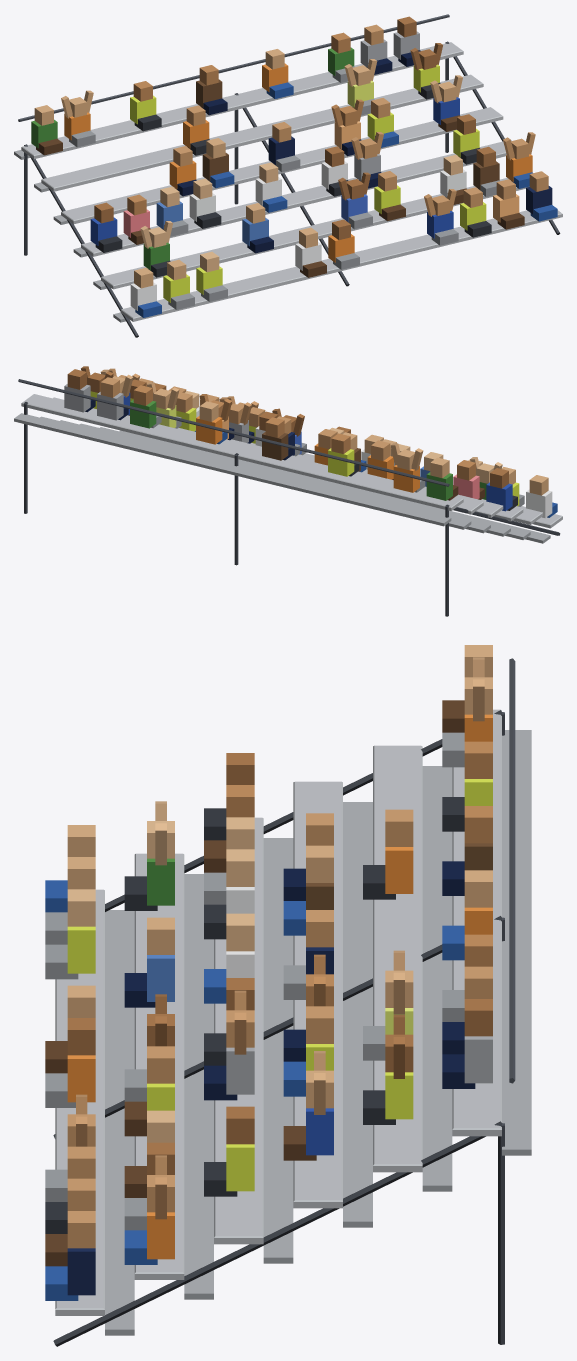
Rendered from Bleacher_1.glb.
3 renders of one model, top to bottom at view 1: azimuth 30°, elevation 25°; view 2: azimuth 150°, elevation 25°; view 3: azimuth 270°, elevation 25°, orthographic. The views are drawn at different scales.
Parts seen in each view (by area): view 1: Bleacher_1; view 2: Bleacher_1; view 3: Bleacher_1.
Part boxes in pixels (bbox=[...]): Bleacher_1: bbox=[14, 14, 562, 337]; Bleacher_1: bbox=[14, 366, 562, 616]; Bleacher_1: bbox=[45, 645, 531, 1346].
Bounding box in the file's own units: 30 × 10.35 × 14.7.
Materials: 1 (1 with a texture image).
